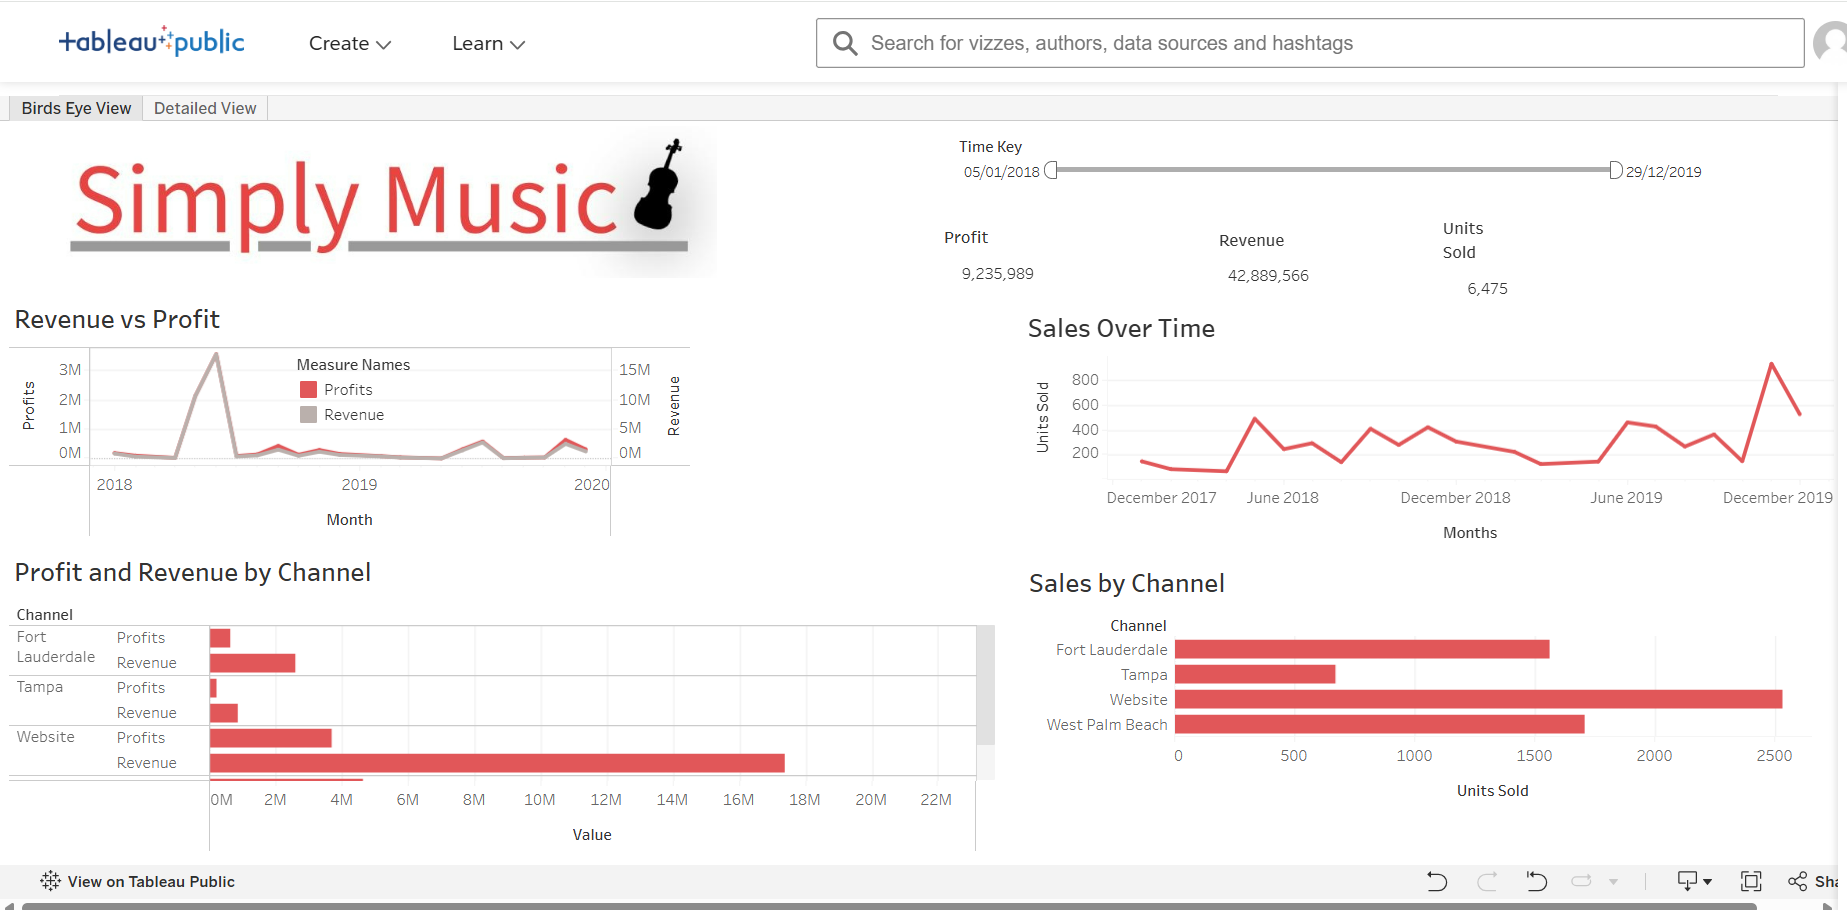

The dashboard page shown, as its layout file describes it:
{"tool":"tableau","page":{"name":"Birds Eye View","canvas":[1000,1000],"units":"permille","ordinal":0},"visuals":[{"type":"image","param":"Image/Simple Music logo.jpg","box":[32.2,4,345.4,215.5]},{"type":"filter","title":"Revenue vs Profits","param":"[federated.0zh7d361hhnbup1bhzdns0knb5b7].[none:TIME_KEY:qk]","box":[505.3,14.7,393.4,92.4]},{"type":"worksheet","title":"unit sold","mark":"Automatic","box":[757.2,115.1,149.3,140.6]},{"type":"worksheet","title":"Profit","mark":"Automatic","box":[494.7,127.2,108.5,111.1]},{"type":"worksheet","title":"Revenue","mark":"Automatic","box":[639.5,129.8,88.2,103.1]},{"type":"worksheet","title":"Revenue vs Profits","mark":"Automatic","rows":["Calculation_496521866065125378","DOLLARS_SOLD"],"cols":["TIME_KEY"],"box":[5.3,230.2,359.2,329.3]},{"type":"worksheet","title":"Sales Over Time","mark":"Automatic","rows":["UNITS_SOLD"],"cols":["TIME_KEY"],"box":[538.8,242.3,427,333.3]},{"type":"legend","title":"Revenue vs Profits","param":"[federated.0zh7d361hhnbup1bhzdns0knb5b7].[:Measure Names]","box":[156.6,310.6,97.4,101.7]},{"type":"worksheet","title":"Profit and Revenue by Channel","mark":"Automatic","rows":["CHANNEL"],"box":[5.3,570.3,521,415]}]}

Visuals, with their boxes on the dashboard's canvas, which has no fixed pixel size, in thousandths of its width and height (x1, y1, x2, y2). These are canvas units, not pixel positions in the 1847x910 screenshot, which may show the page scaled, cropped or inside an application window:
image: <region>32, 4, 378, 220</region>
"Revenue vs Profits" filter: <region>505, 15, 899, 107</region>
"unit sold" worksheet: <region>757, 115, 906, 256</region>
"Profit" worksheet: <region>495, 127, 603, 238</region>
"Revenue" worksheet: <region>640, 130, 728, 233</region>
"Revenue vs Profits" worksheet: <region>5, 230, 364, 560</region>
"Sales Over Time" worksheet: <region>539, 242, 966, 576</region>
"Revenue vs Profits" legend: <region>157, 311, 254, 412</region>
"Profit and Revenue by Channel" worksheet: <region>5, 570, 526, 985</region>
